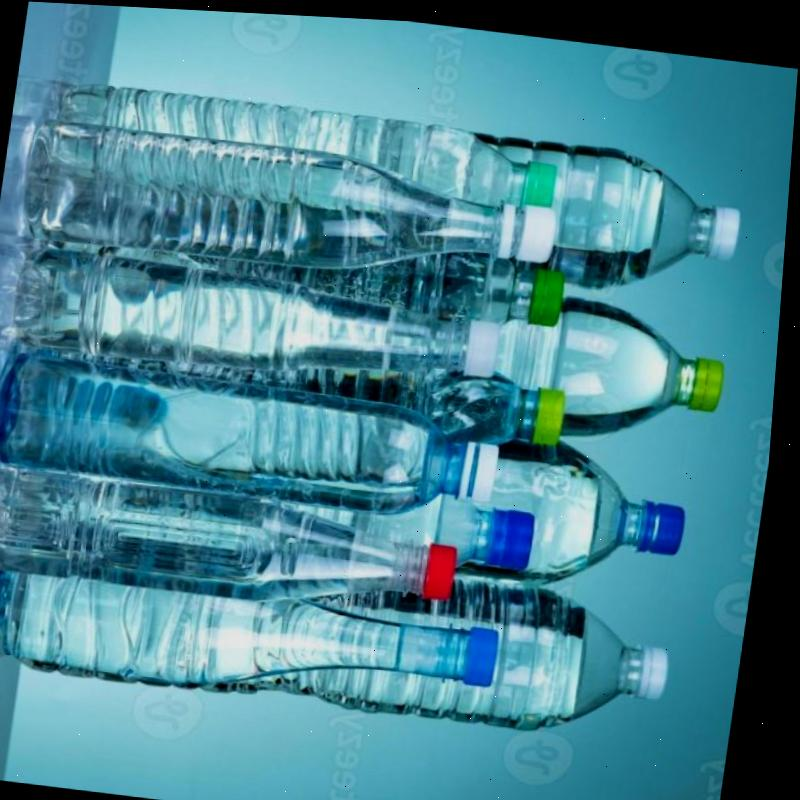botella: (17, 521, 686, 738), (19, 115, 566, 292), (0, 352, 510, 520), (0, 560, 512, 722), (15, 244, 509, 393), (0, 465, 471, 620), (54, 77, 565, 205), (457, 125, 750, 300), (487, 281, 737, 446), (477, 420, 702, 591), (286, 468, 543, 574)
